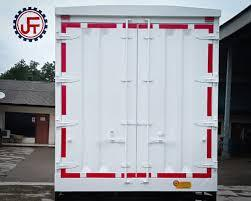truck: (51, 1, 226, 199)
